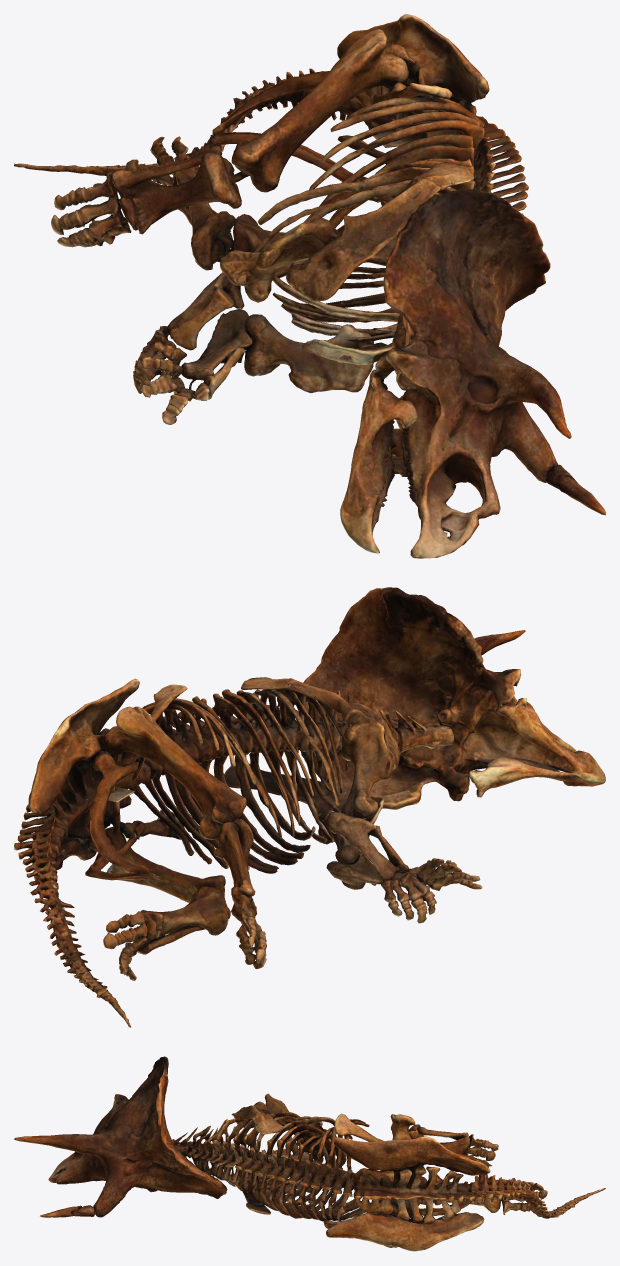
File: triceratops.glb
The picture shows the model from 3 angles, top to bottom: view 1: azimuth 30°, elevation 25°; view 2: azimuth 150°, elevation 25°; view 3: azimuth 270°, elevation 25°; orthographic projection. The views are drawn at different scales.
Size of the model in its own units: 2.81 by 1.66 by 5.89.
1 material, 1 textured.
